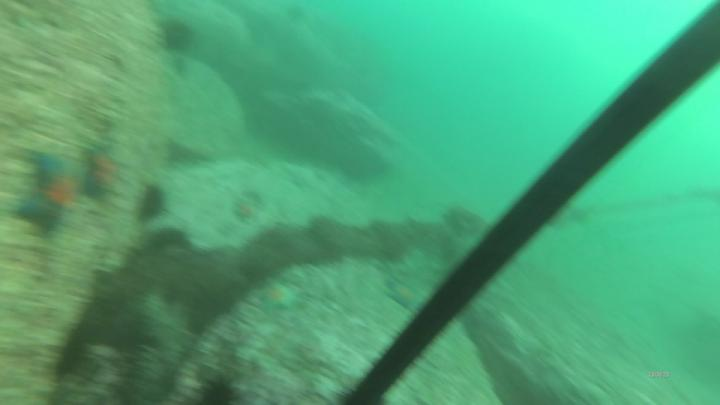echinus: (137, 182, 166, 223), (198, 375, 235, 405), (160, 20, 190, 50)
starfish: (9, 147, 85, 238), (78, 139, 121, 211), (388, 274, 430, 316), (258, 276, 301, 315), (230, 196, 256, 226)
